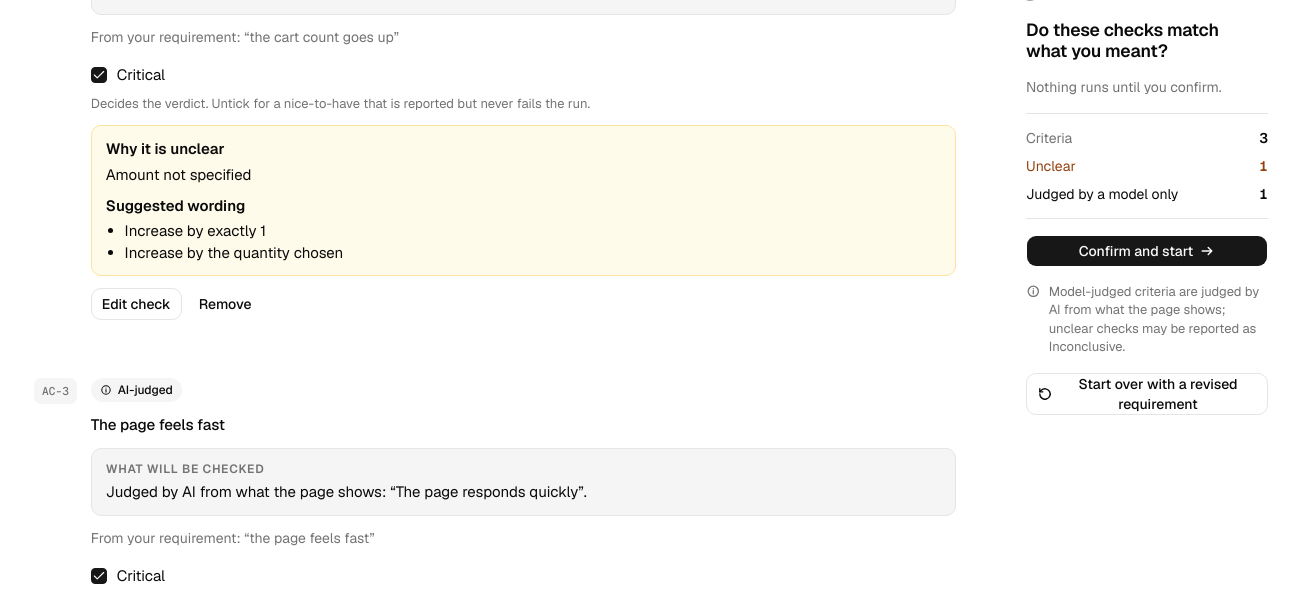
Test: CriteriaReview › keeps another card's open check draft when a different criterion is saved
(page scrolled)
# An unsaved draft on AC-2 …
Click the button with aria-label "Edit check AC-2": coordinates (136, 304) [91, 288, 182, 320]
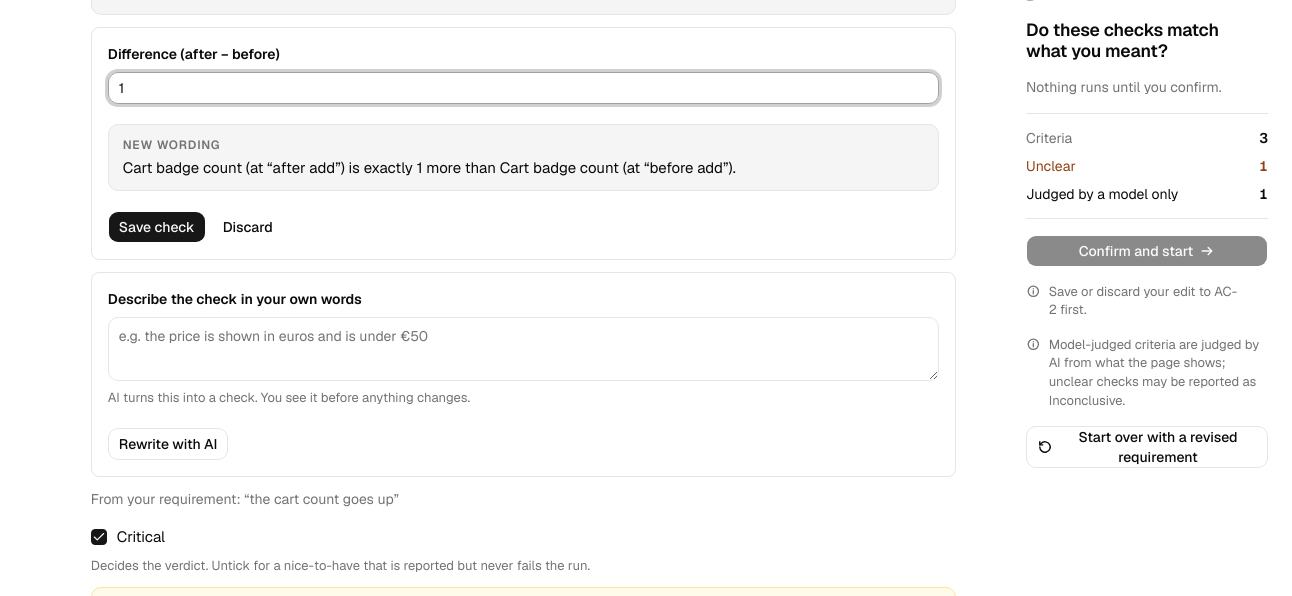
Replace the text in the field labelled "Difference (after − before)" with "3": coordinates (523, 88) [108, 72, 939, 104]
(page scrolled)
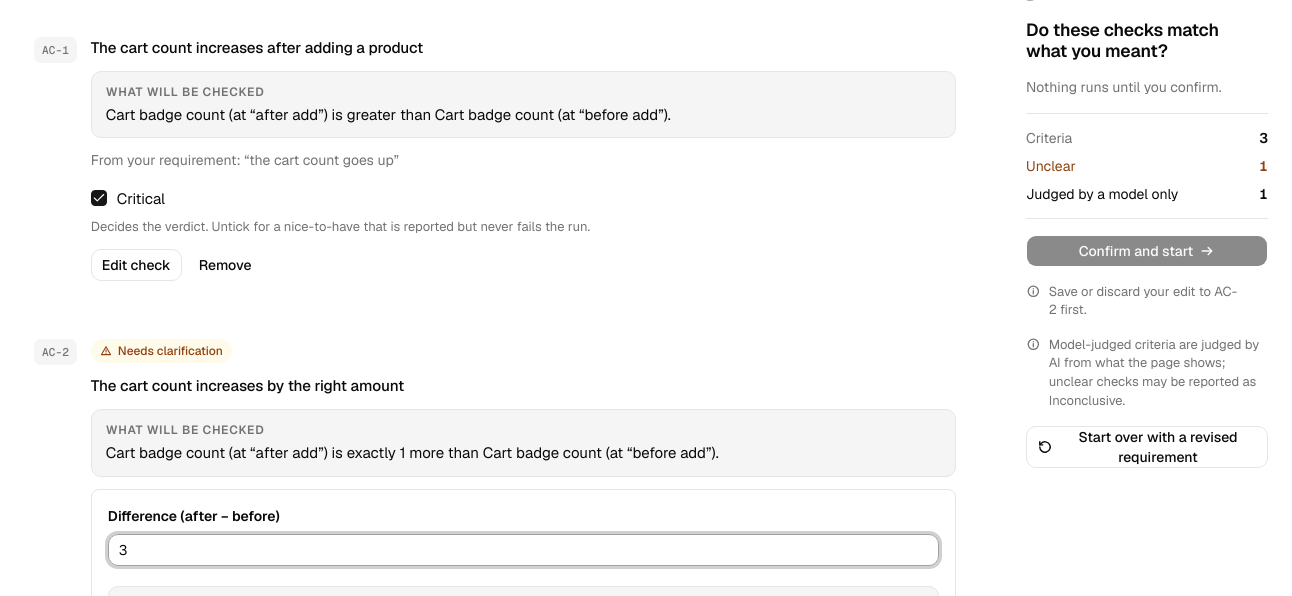
# … while AC-1's comparison is changed and saved.
Click the button with aria-label "Edit check AC-1": coordinates (136, 265) [91, 249, 182, 281]
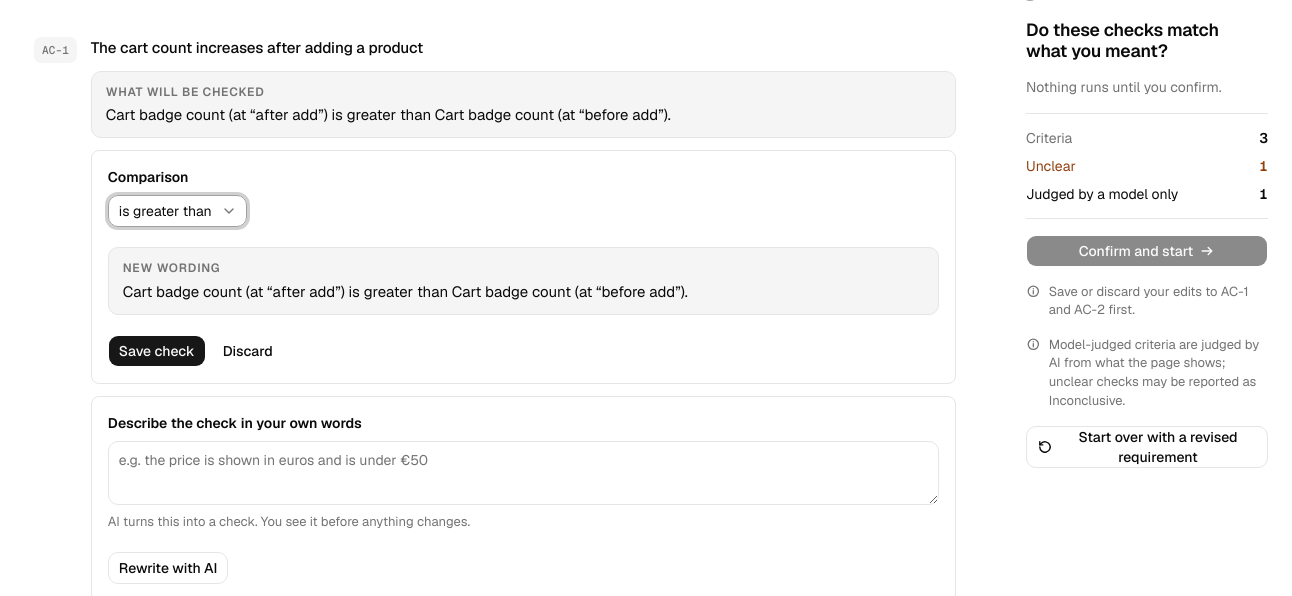
Select "is at least" in the dropdown labelled "Comparison": coordinates (177, 211) [108, 195, 247, 227]
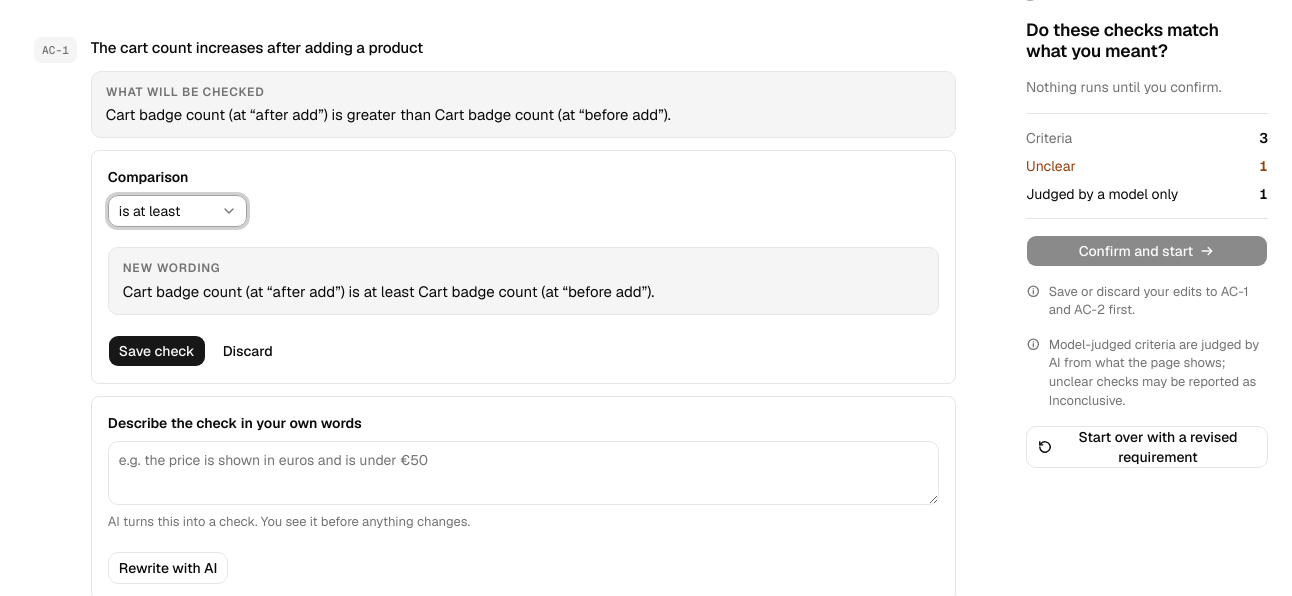
Click the button "Save check": coordinates (157, 351) [108, 335, 206, 367]
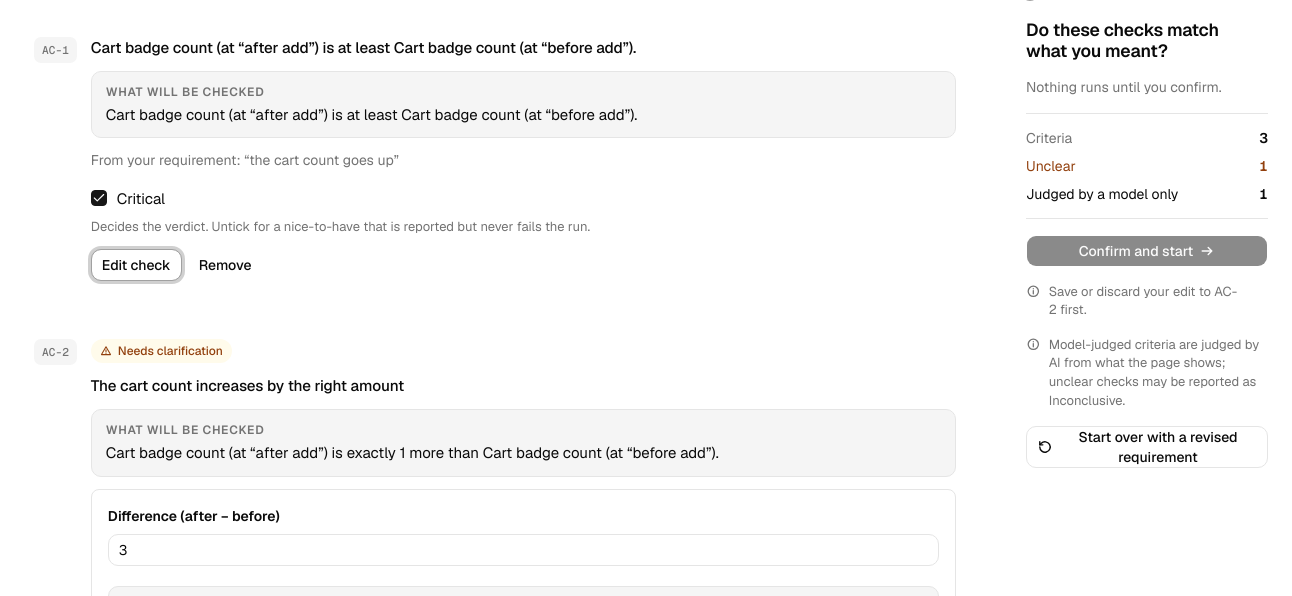
Expected: the button "Confirm and start" is disabled, [1026, 235, 1268, 267]
Expected: the element "What will be checked" shows "is at least", [106, 105, 637, 124]
Expected: the text "Save or discard your edit to AC-2 first." is shown, [1026, 283, 1268, 320]
